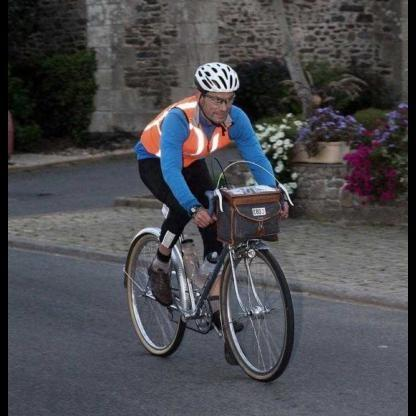Bicycle: (89, 155, 311, 398)
